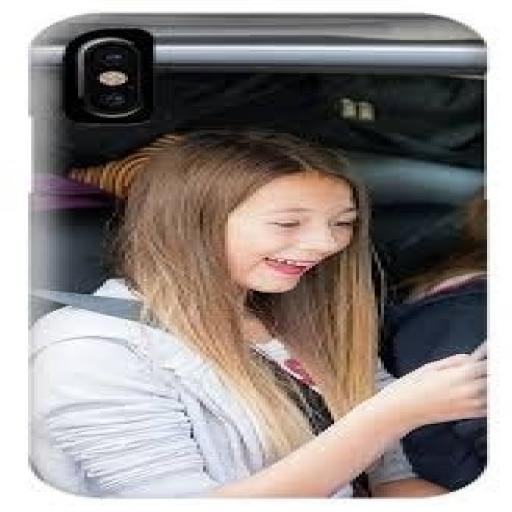texting: (28, 126, 484, 499)
